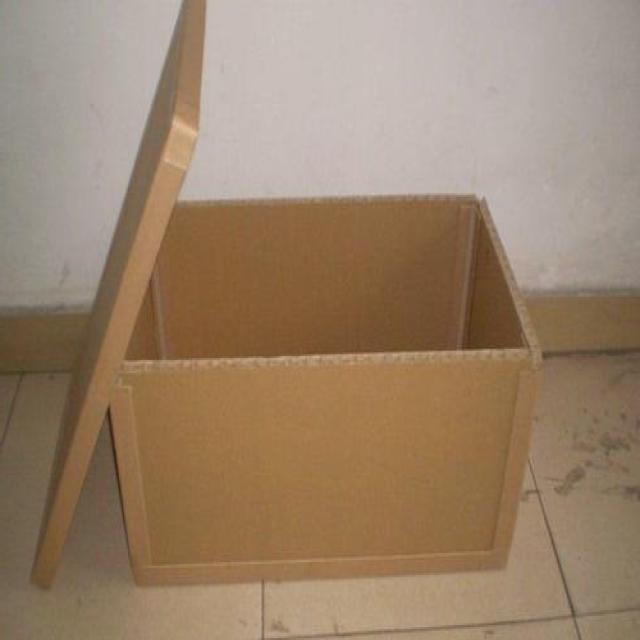cardboard: (120, 192, 533, 588), (26, 1, 207, 589)
